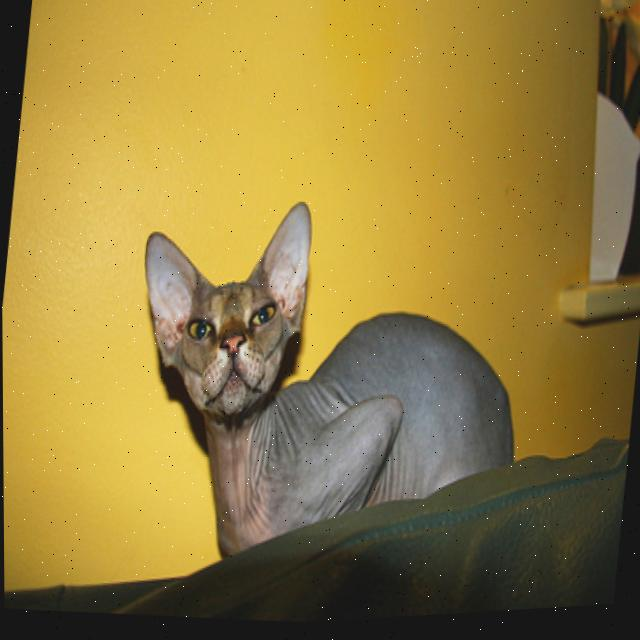Sphynx: (109, 173, 543, 604)
